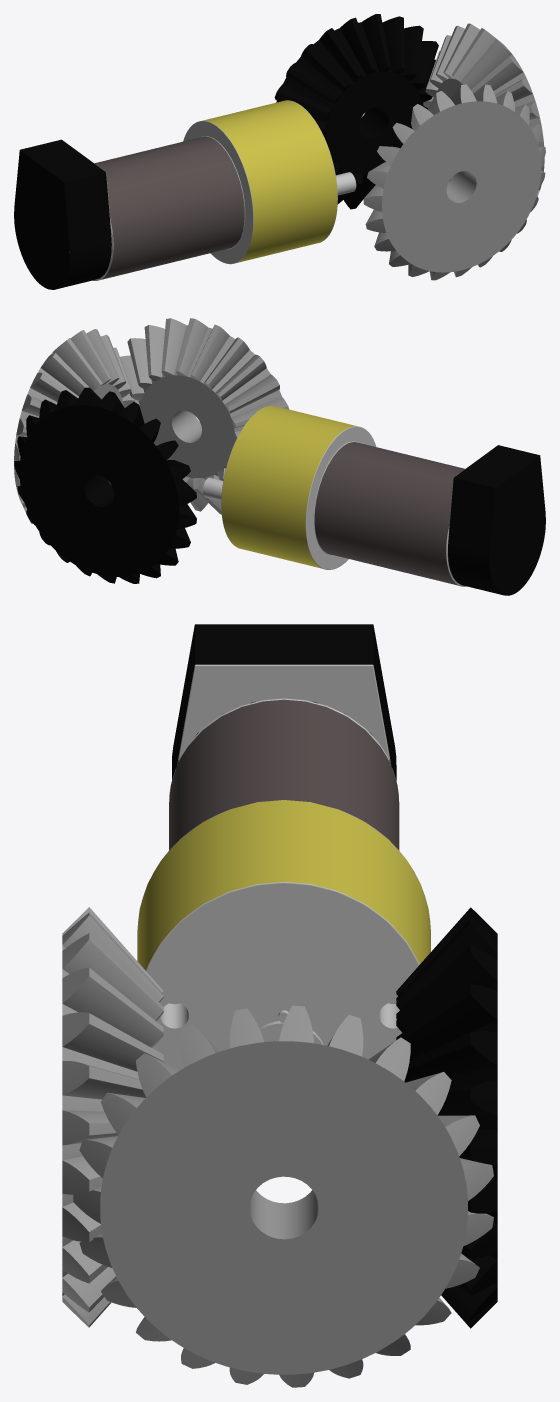
File: Parte_6xb.DAE
The picture shows the model from 3 angles, top to bottom: view 1: azimuth 30°, elevation 25°; view 2: azimuth 150°, elevation 25°; view 3: azimuth 270°, elevation 25°; orthographic projection. The views are drawn at different scales.
Parts seen in each view (by area): view 1: Motor 1_3, Bevel Gear2_1_ncl1_1, Bevel Gear1_1, Bevel Gear2_1; view 2: Motor 1_3, Bevel Gear1_1, Bevel Gear2_1_ncl1_1, Bevel Gear2_1; view 3: Bevel Gear2_1, Motor 1_3, Bevel Gear2_1_ncl1_1, Bevel Gear1_1.
Part boxes in pixels (x1=…): Motor 1_3: x1=14, y1=100, x2=356, y2=289; Bevel Gear2_1_ncl1_1: x1=363, y1=84, x2=545, y2=280; Bevel Gear1_1: x1=274, y1=14, x2=438, y2=209; Bevel Gear2_1: x1=423, y1=23, x2=544, y2=196; Motor 1_3: x1=202, y1=405, x2=545, y2=595; Bevel Gear1_1: x1=14, y1=387, x2=196, y2=583; Bevel Gear2_1_ncl1_1: x1=120, y1=318, x2=289, y2=514; Bevel Gear2_1: x1=14, y1=329, x2=134, y2=523; Bevel Gear2_1: x1=73, y1=1005, x2=493, y2=1387; Motor 1_3: x1=137, y1=624, x2=430, y2=1069; Bevel Gear2_1_ncl1_1: x1=62, y1=907, x2=163, y2=1327; Bevel Gear1_1: x1=396, y1=907, x2=497, y2=1328.
Size of the model in its own units: 0.183 by 0.0732 by 0.0755.
